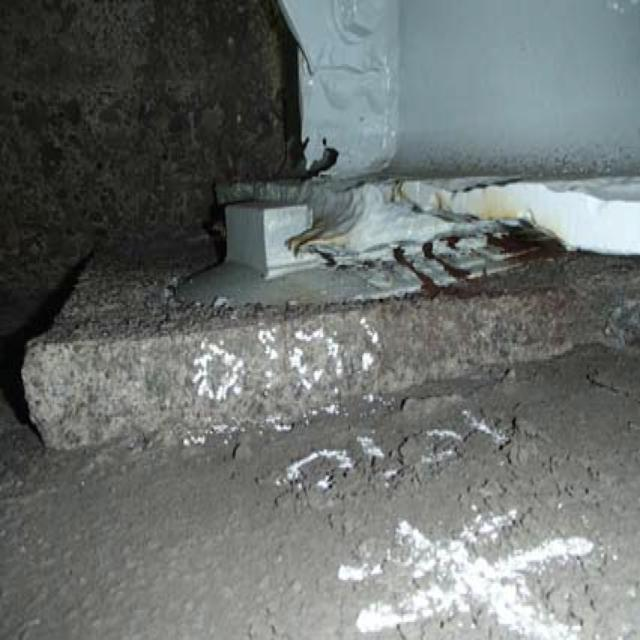corrosion: (214, 184, 603, 306)
